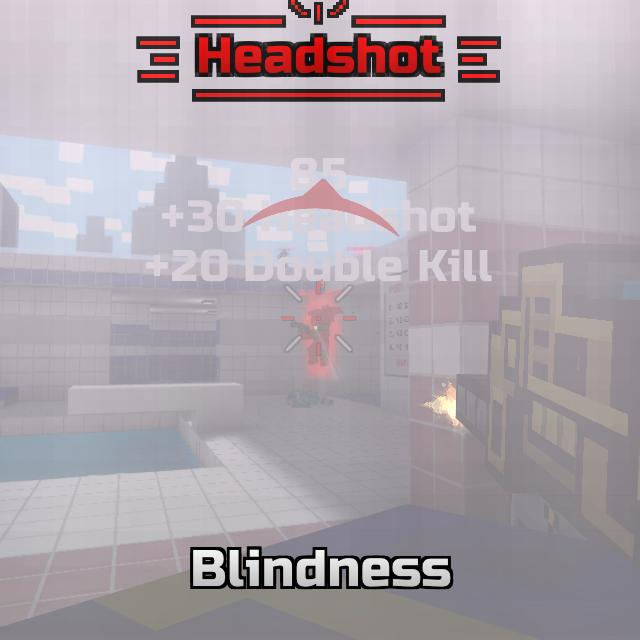Enemy: (301, 305, 335, 366)
